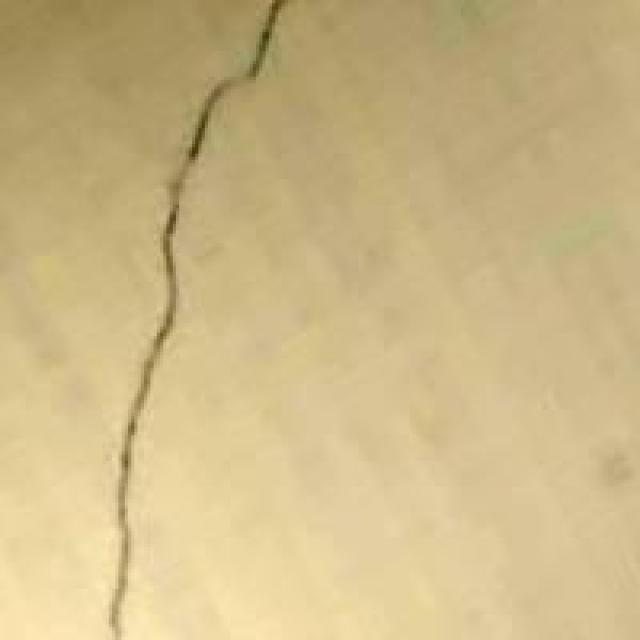crack: (77, 0, 339, 637)
